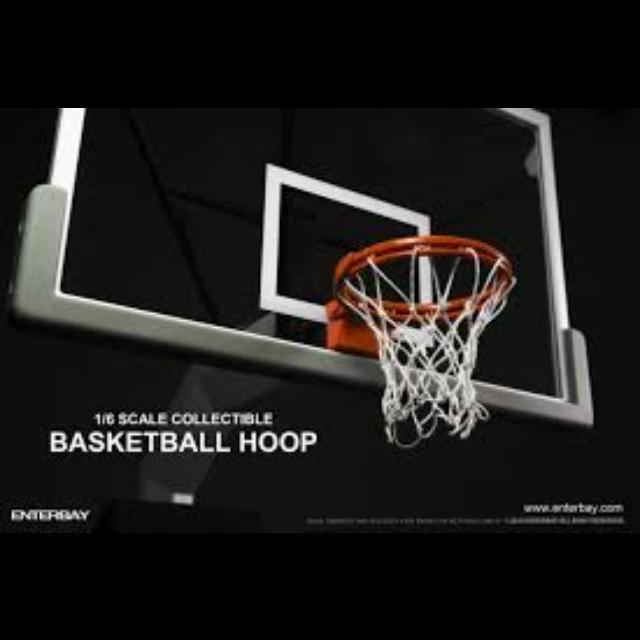rim: (334, 235, 514, 437)
